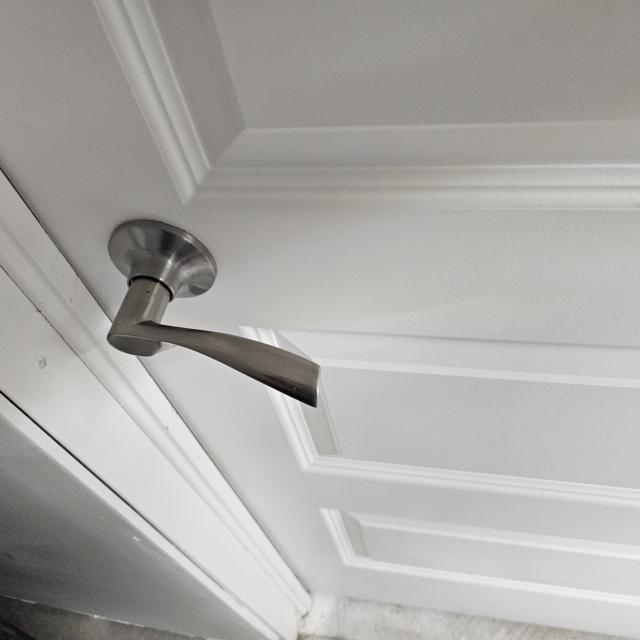door-handle: (108, 220, 320, 406)
